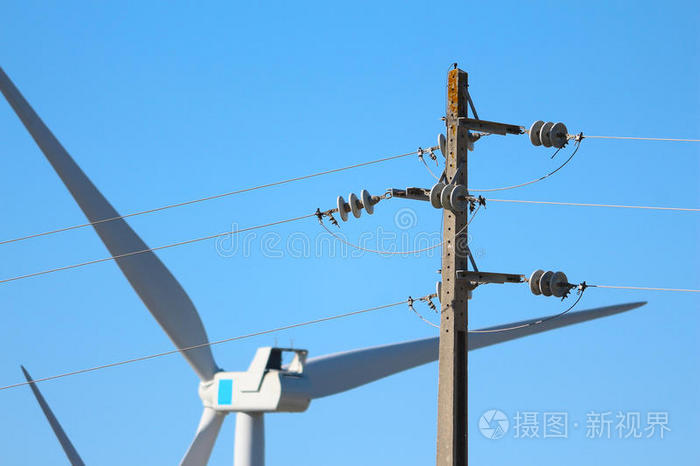insulator: (337, 187, 373, 222), (528, 118, 570, 147), (529, 268, 568, 298), (431, 183, 471, 210)
